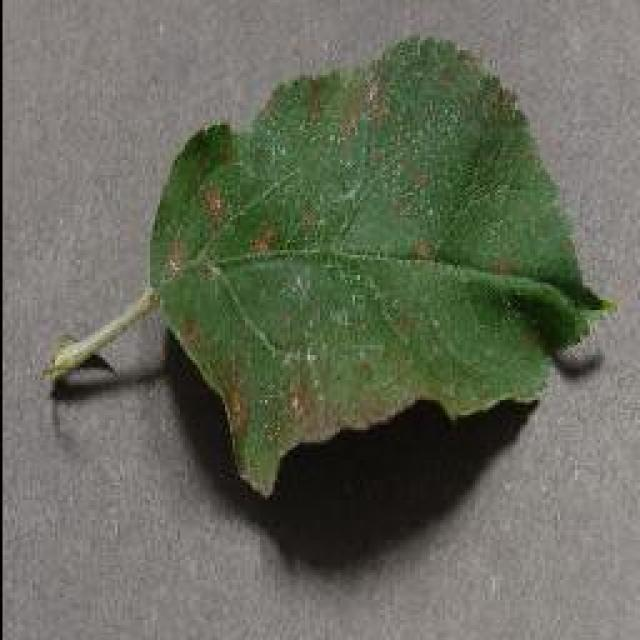apple scab disease: (43, 32, 615, 500)
